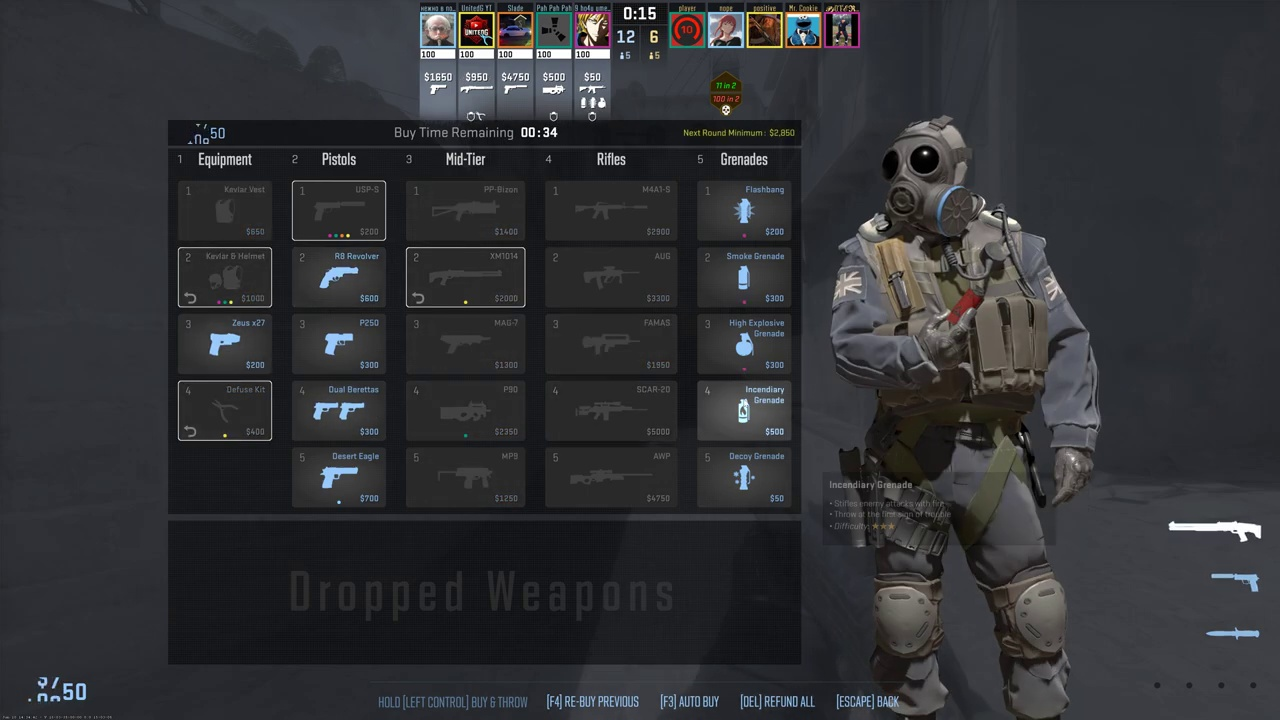CT: (858, 122, 1075, 708)
